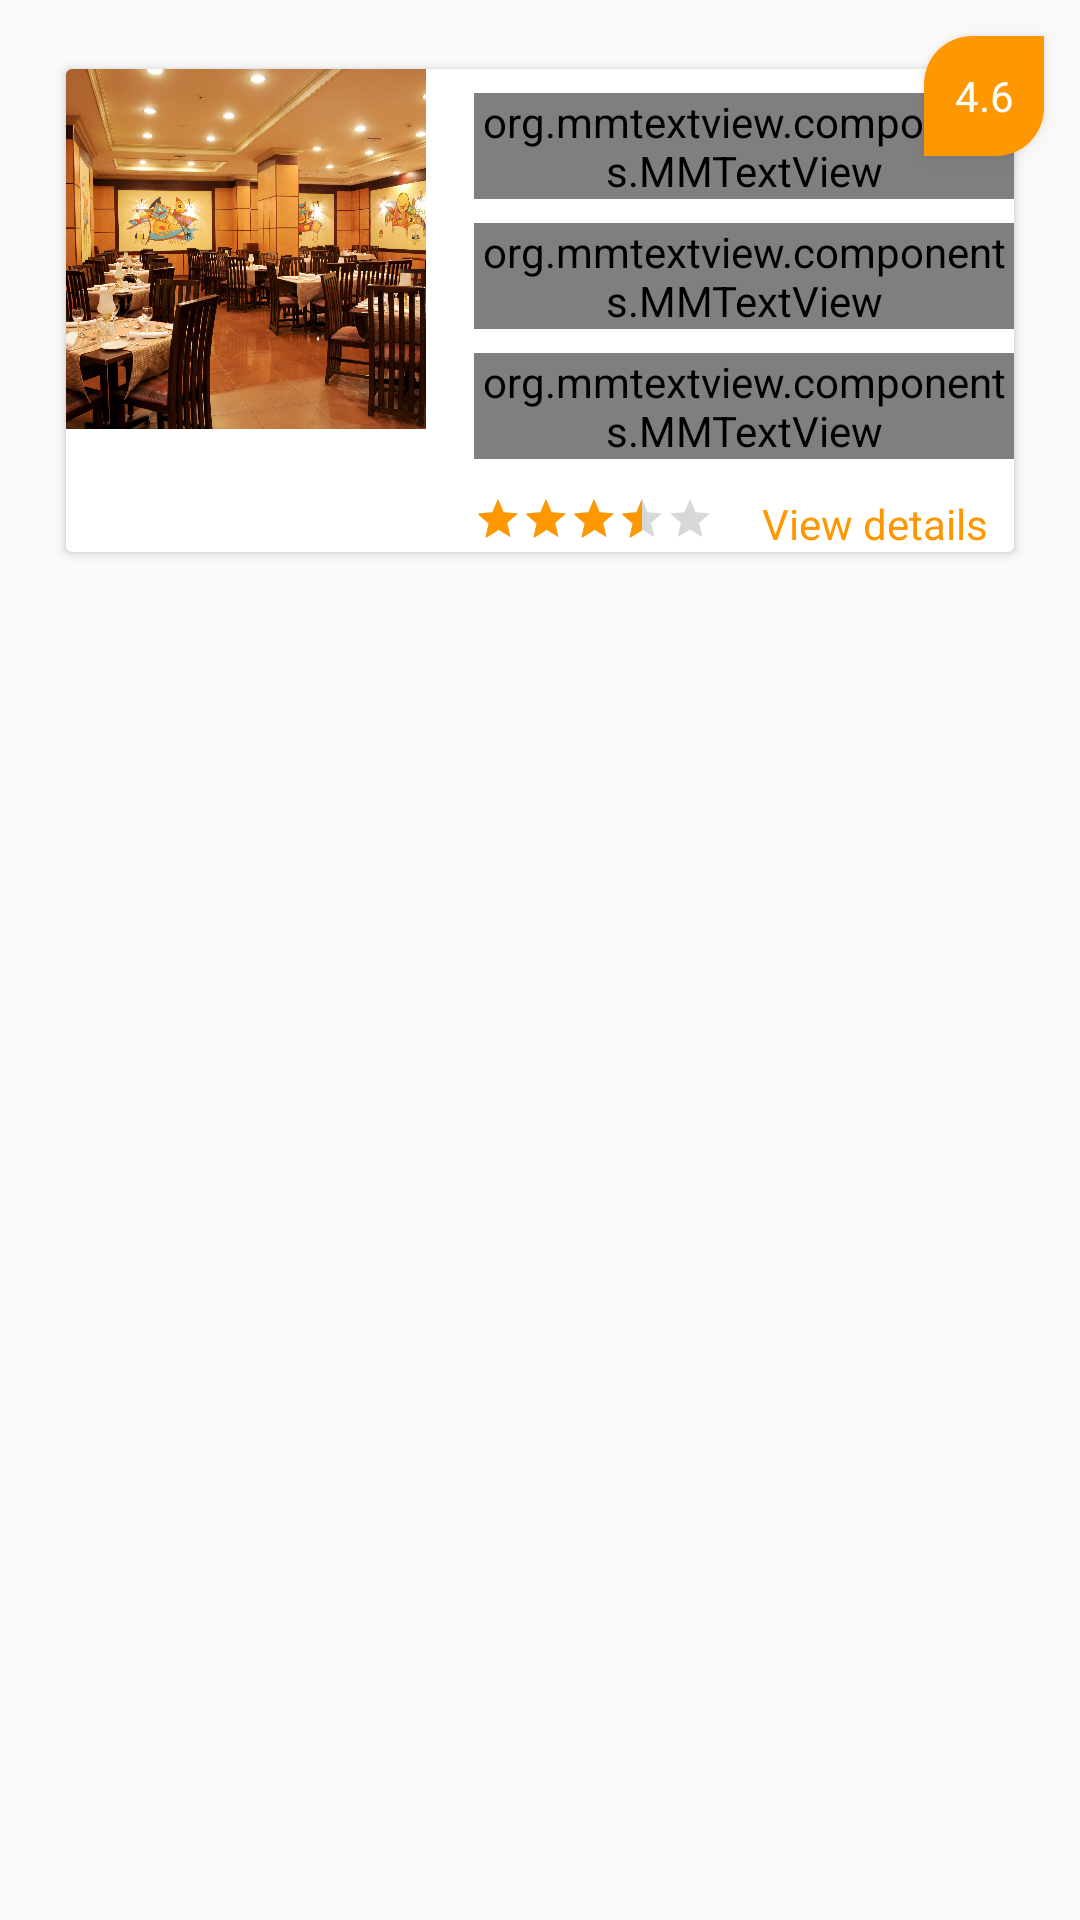

Named icons in this screenshot (1080px×1920px) and their bounding boxes, (x1, y1, x2, y2):
resturant: (66, 69, 426, 429)
